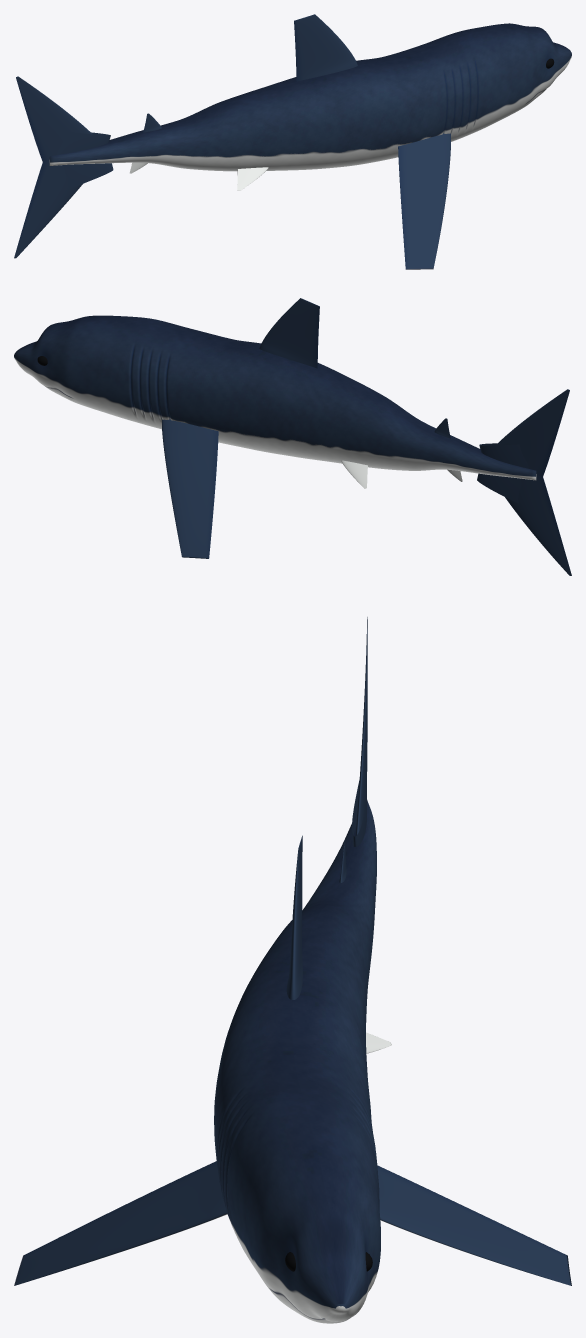
Rendered from longfin_mako.glb.
3 views of the same model, one above another, from view 1: azimuth 30°, elevation 25°; view 2: azimuth 150°, elevation 25°; view 3: azimuth 270°, elevation 25° (orthographic). The views are drawn at different scales.
Visible parts, largest first — view 1: LongfinMako_Body, LongfinMako_Fins; view 2: LongfinMako_Body, LongfinMako_Fins; view 3: LongfinMako_Body, LongfinMako_Fins.
Part boxes in pixels (<box>): LongfinMako_Body: <box>49,23,571,171</box>; LongfinMako_Fins: <box>14,14,450,269</box>; LongfinMako_Body: <box>14,315,536,480</box>; LongfinMako_Fins: <box>162,298,571,575</box>; LongfinMako_Body: <box>214,800,380,1323</box>; LongfinMako_Fins: <box>14,617,571,1285</box>.
Size of the model in its own units: 2.5 by 0.9133 by 1.16.
Materials: 3 (1 with a texture image).
